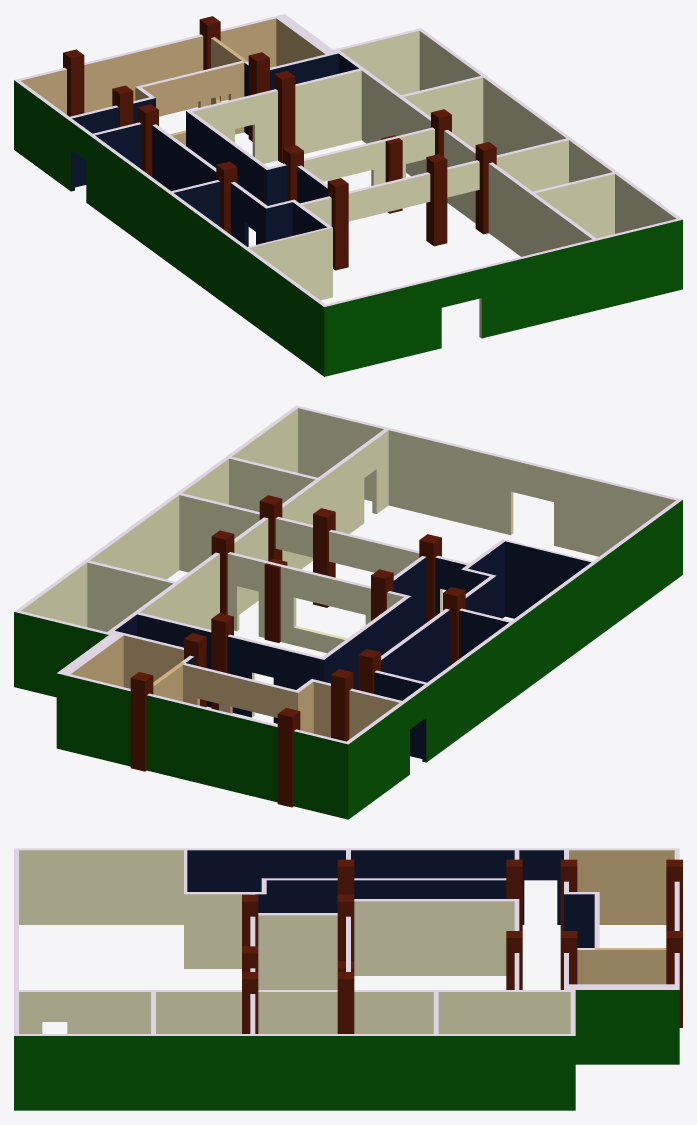
File: SM_wall_02.fbx
The picture shows the model from 3 angles, top to bottom: view 1: azimuth 30°, elevation 25°; view 2: azimuth 150°, elevation 25°; view 3: azimuth 270°, elevation 25°; orthographic projection. The views are drawn at different scales.
Visible parts, largest first — view 1: Frount.001; view 2: Frount.001; view 3: Frount.001.
Boxes of the visible parts, x1,y1,x2,y2 form: Frount.001: (14, 14, 682, 376); Frount.001: (14, 405, 682, 819); Frount.001: (14, 848, 682, 1110).
Bounding box in the file's own units: 2690 × 600 × 4050.
